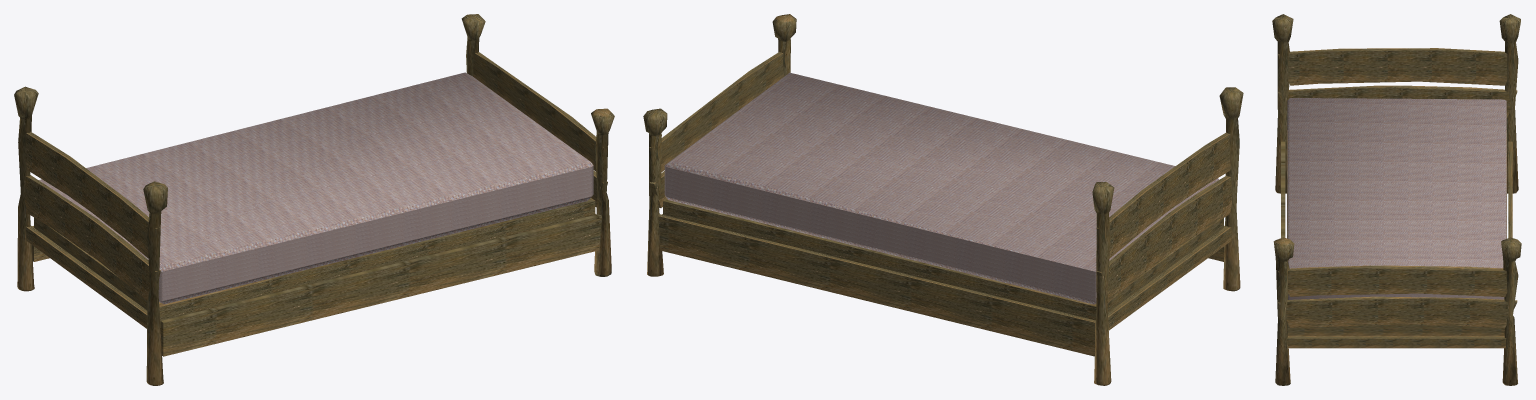
The model's file is bed.glb.
3 views of the same model, side by side, from view 1: azimuth 30°, elevation 25°; view 2: azimuth 150°, elevation 25°; view 3: azimuth 270°, elevation 25° (orthographic). The views are drawn at different scales.
Visible parts, largest first — view 1: bed.ms3d.mo; view 2: bed.ms3d.mo; view 3: bed.ms3d.mo.
Boxes of the visible parts, x1=… form: bed.ms3d.mo: x1=14, y1=14, x2=614, y2=385; bed.ms3d.mo: x1=643, y1=14, x2=1243, y2=385; bed.ms3d.mo: x1=1272, y1=14, x2=1521, y2=385.
Size of the model in its own units: 419 by 170 by 221.
Materials: 2 (2 with a texture image).
